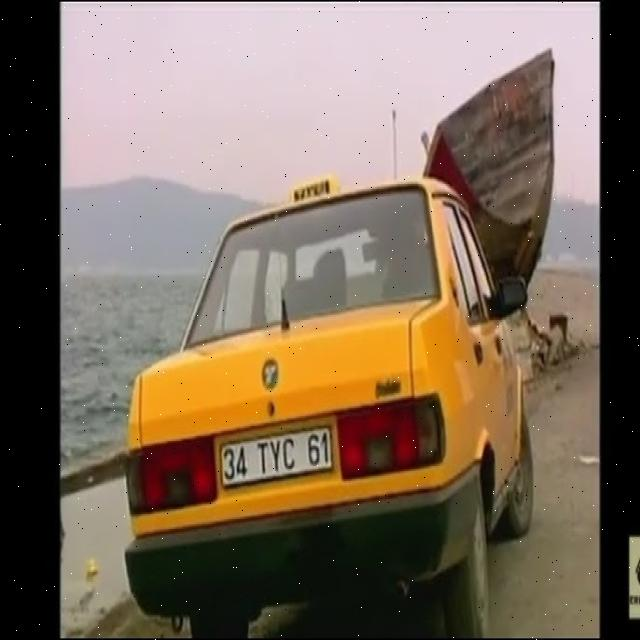car: (126, 176, 533, 638)
